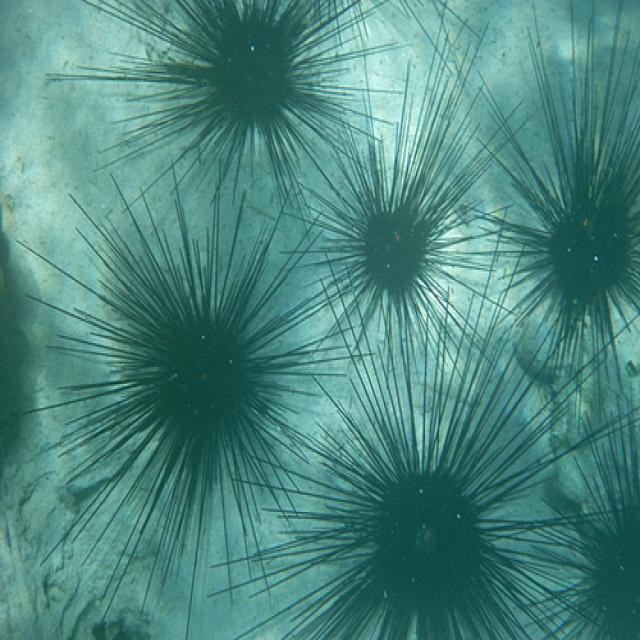Urchin: (18, 168, 366, 602), (252, 235, 577, 640), (44, 2, 408, 225), (299, 5, 516, 364), (476, 2, 640, 370), (517, 384, 640, 640)
